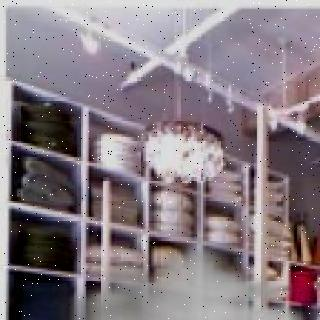smoke: (4, 219, 320, 320)
